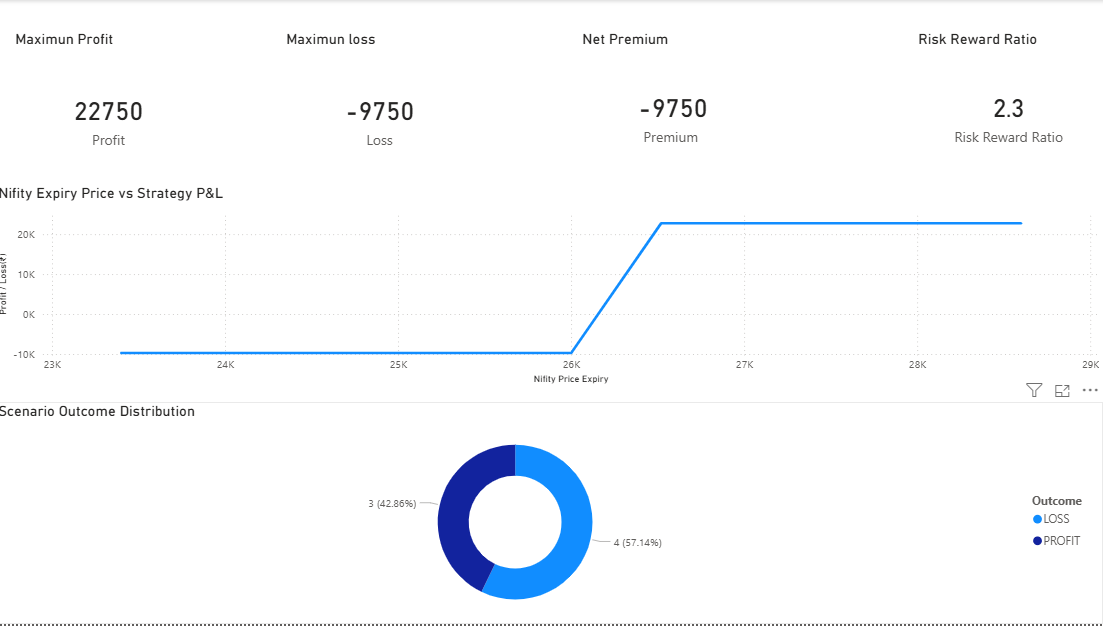

The page's visual inventory and layout, read from the dashboard file:
{"tool":"powerbi","page":{"name":"OverView","canvas":[1280,720],"ordinal":0},"visuals":[{"type":"card","title":"Maximun Profit","fields":{"Values":["Sum(tblRiskSummary.Maximum Profit)"]},"box":[19.3,34.7,224.9,183.8],"z":0},{"type":"card","title":"Maximun loss","fields":{"Values":["Min(tblRiskSummary.Maximum Loss)"]},"box":[332.9,34.7,224.9,183.8],"z":1000},{"type":"card","title":"Net Premium","fields":{"Values":["Sum(tblRiskSummary.Net Premium )"]},"box":[673.4,34.7,218.5,177.3],"z":2000},{"type":"card","title":"Risk Reward Ratio","fields":{"Values":["Max(tblRiskSummary.Risk Reward Ratio)"]},"box":[1061.5,34.7,218.5,177.3],"z":3000},{"type":"lineChart","title":"Nifity Expiry Price vs Strategy P&L","fields":{"Category":["tblScenarioData.Expiry Price"],"Y":["Sum(tblScenarioData.Total Strategy P&L)"]},"box":[0,212,1280,235.2],"z":4000},{"type":"donutChart","title":"Scenario  Outcome Distribution","fields":{"Category":["tblScenarioData.Outcome"],"Y":["CountNonNull(tblScenarioData.Scenario)"]},"box":[0,463.8,1279.6,256.2],"z":5000}]}

Visuals, with their boxes in screenshot pixels (x1, y1, x2, y2), scaled from the page's 1280x720 canvas onto the 1103x626 screenshot:
"Maximun Profit" card: (left=17, top=30, right=210, bottom=190)
"Maximun loss" card: (left=287, top=30, right=481, bottom=190)
"Net Premium" card: (left=580, top=30, right=769, bottom=184)
"Risk Reward Ratio" card: (left=915, top=30, right=1102, bottom=184)
"Nifity Expiry Price vs Strategy P&L" lineChart: (left=0, top=184, right=1102, bottom=389)
"Scenario  Outcome Distribution" donutChart: (left=0, top=403, right=1102, bottom=625)
